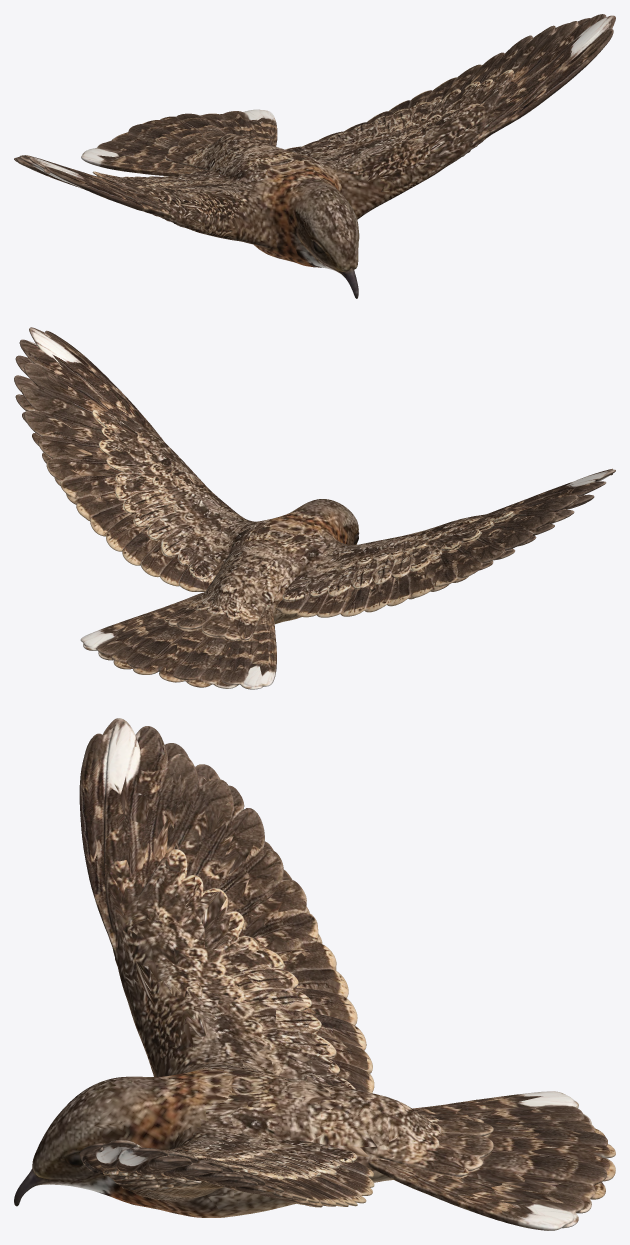
Rendered from Caprimulgus_pectoralis.glb.
3 renders of one model, top to bottom at view 1: azimuth 30°, elevation 25°; view 2: azimuth 150°, elevation 25°; view 3: azimuth 270°, elevation 25°, orthographic. The views are drawn at different scales.
Parts seen in each view (by area): view 1: orient; view 2: orient; view 3: orient.
Part boxes in pixels (left/top/right/bottom): orient: left=14, top=14, right=615, bottom=298; orient: left=14, top=327, right=615, bottom=689; orient: left=14, top=718, right=615, bottom=1230.
Bounding box in the file's own units: 0.5 × 0.1527 × 0.2998.
1 material, 1 textured.
